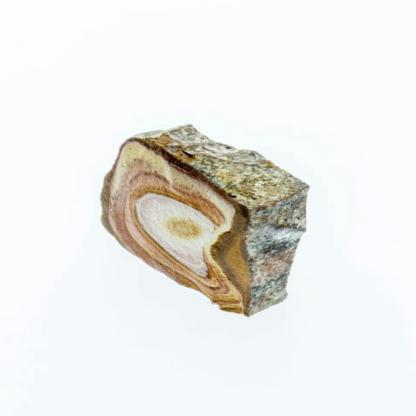Sedimentary_Sandstone: (96, 110, 313, 320)
